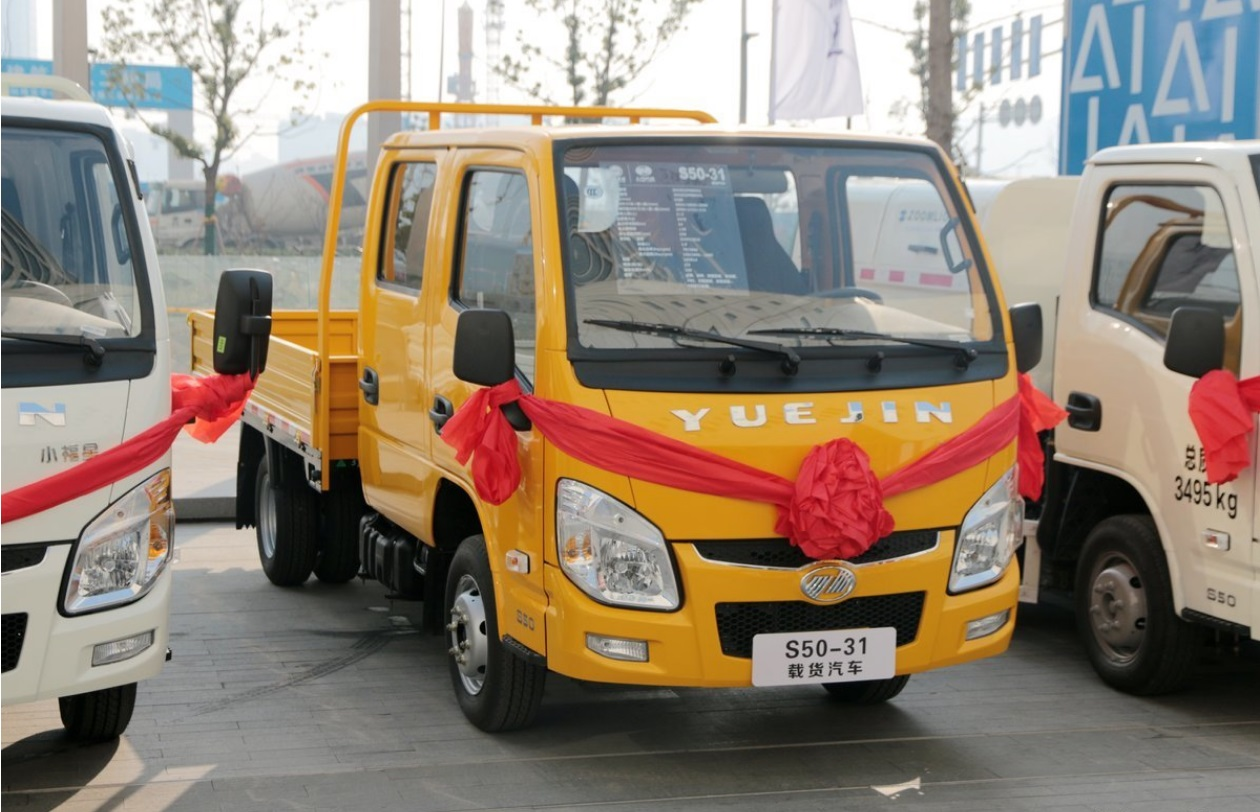truck: (181, 89, 1041, 751)
